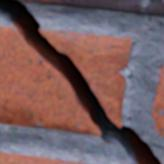brick: (22, 0, 163, 14), (151, 65, 163, 135)
broken_brick: (0, 26, 100, 134), (39, 30, 130, 126), (0, 151, 89, 163)
crack: (0, 0, 162, 163)
